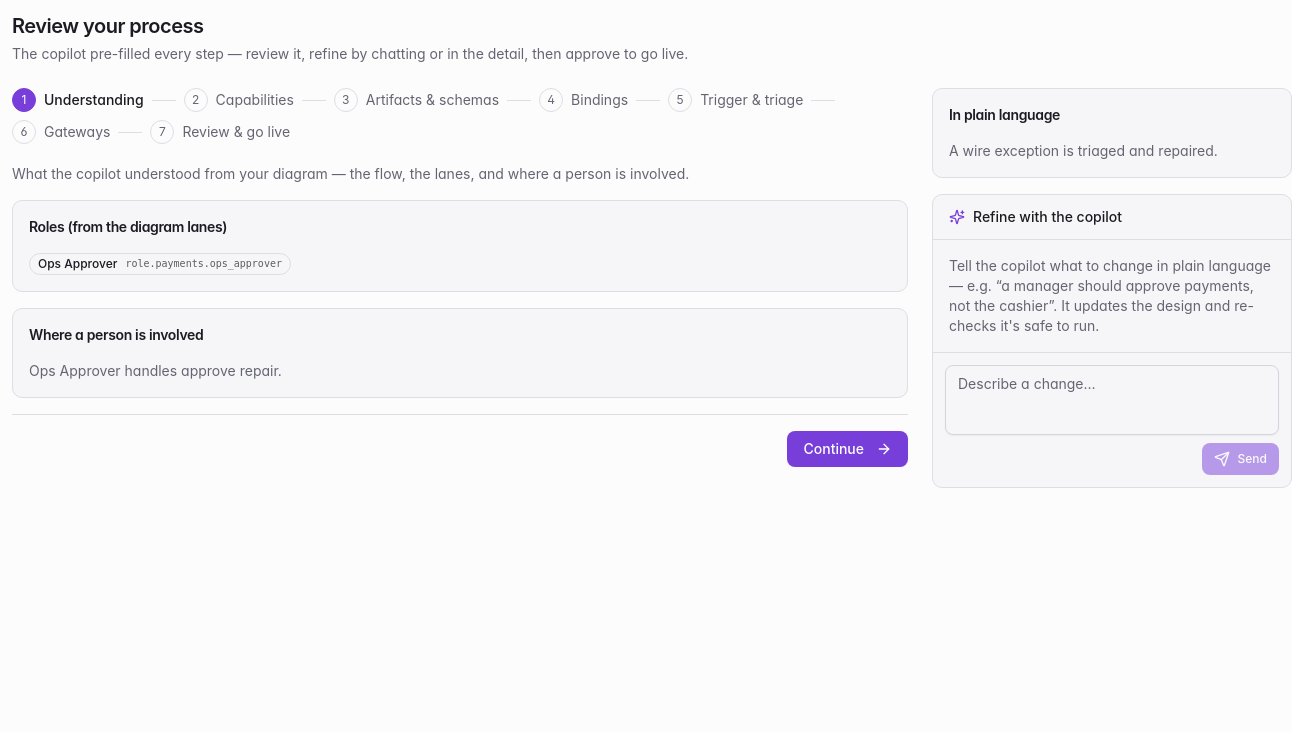
Test: Copilot flow — stepped review + schema refiner (ADR-054) › a copilot-seeded human artifact renders its baseline fields with a 'drafted by the copilot' hint
The image size is (1292, 732).
Click the button "3 Artifacts & schemas": [416, 100] box [334,88,499,112]
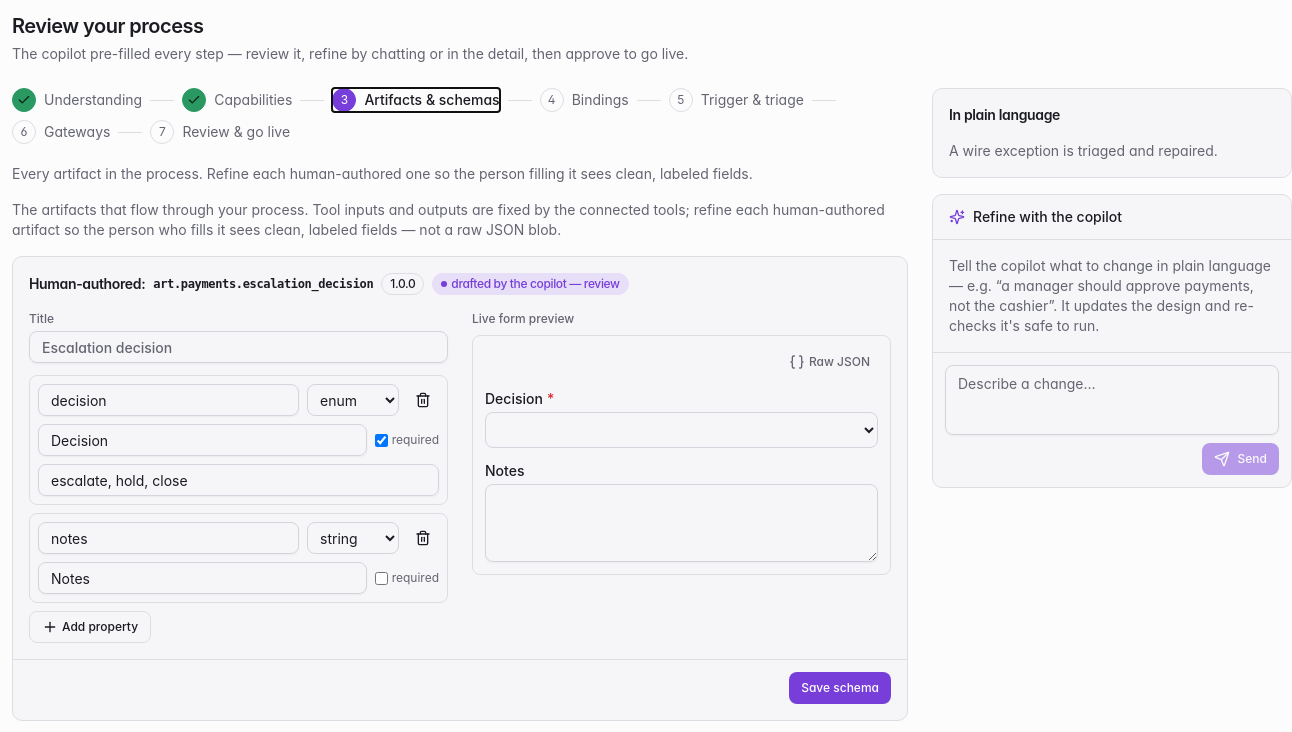
Expected: the text "Decision" is shown, [485,390,543,407]
Expected: the text "drafted by the copilot — review" is shown, [432,273,629,295]
